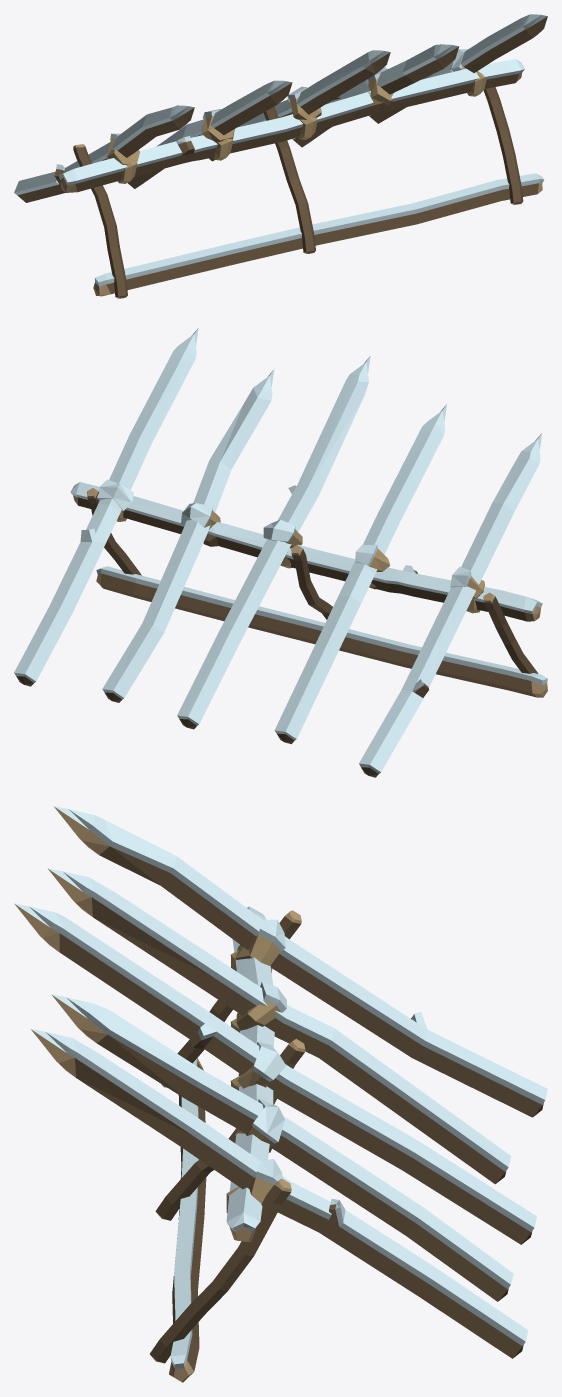
File: Decoracion_Puas.glb
3 views of the same model, one above another, from view 1: azimuth 30°, elevation 25°; view 2: azimuth 150°, elevation 25°; view 3: azimuth 270°, elevation 25° (orthographic). The views are drawn at different scales.
Visible parts, largest first — view 1: SM_Prop_Spikes_01_Snow; view 2: SM_Prop_Spikes_01_Snow; view 3: SM_Prop_Spikes_01_Snow.
Part boxes in pixels (x1,y1,x2,y2): SM_Prop_Spikes_01_Snow: (14, 14, 547, 298); SM_Prop_Spikes_01_Snow: (14, 328, 547, 777); SM_Prop_Spikes_01_Snow: (14, 806, 547, 1382).
Size of the model in its own units: 3.45 by 1.72 by 2.44.
1 material, 1 textured.
